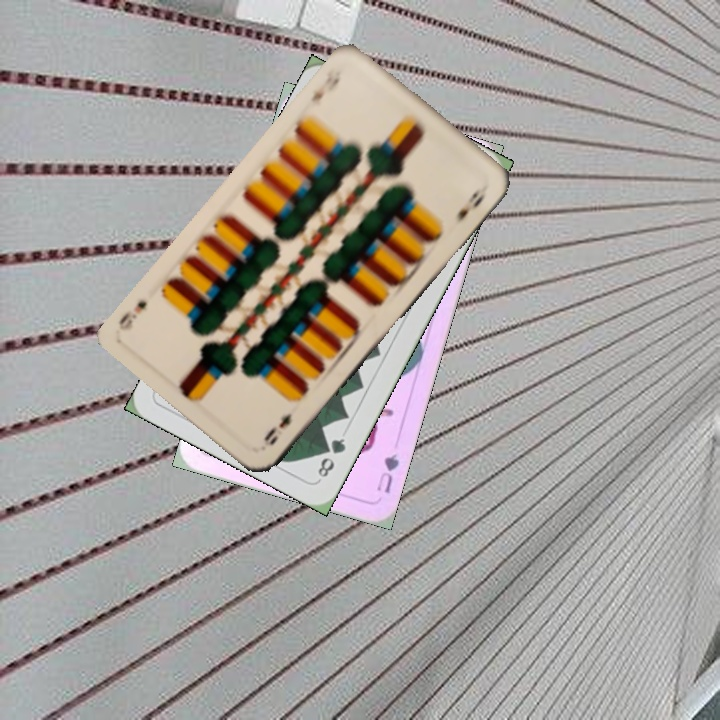E9: (306, 66, 344, 104), (259, 408, 295, 448)
G8: (313, 433, 349, 481)
GU: (372, 449, 402, 496)
